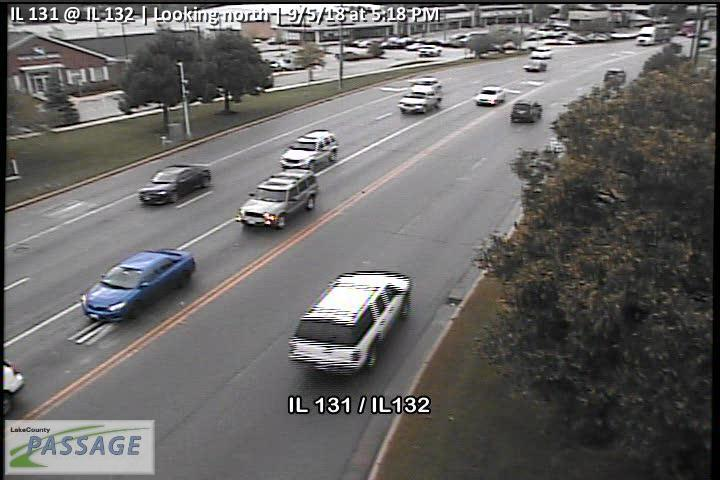SUV: (287, 267, 411, 377), (235, 166, 320, 230), (275, 129, 340, 171)
Sedan: (78, 248, 197, 323), (135, 162, 211, 205), (400, 89, 441, 115), (509, 96, 543, 122), (405, 74, 444, 95), (474, 83, 507, 107), (415, 45, 441, 58)
